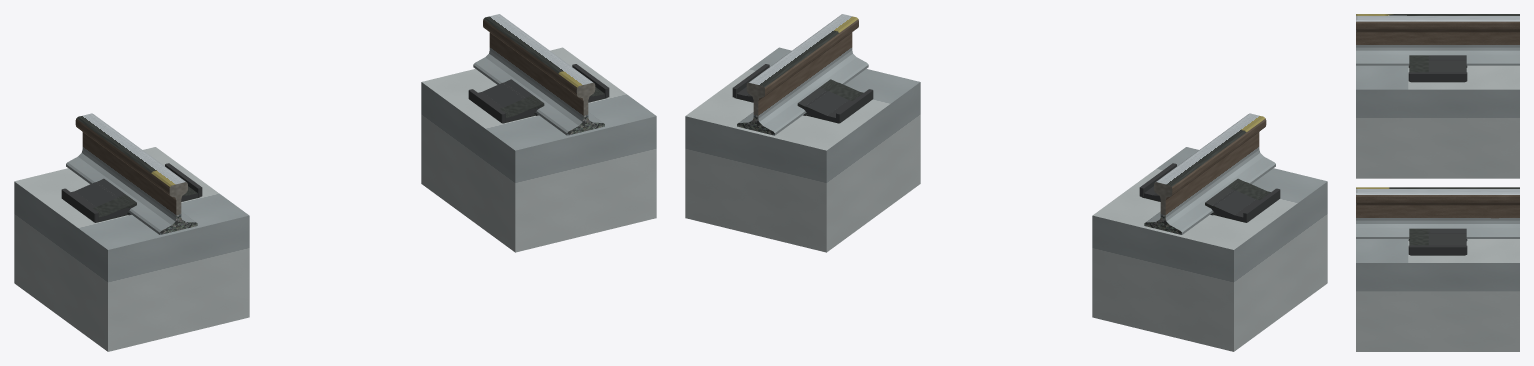
Rendered from direct_low.obj.
3 views of the same model, side by side, from view 1: azimuth 30°, elevation 25°; view 2: azimuth 150°, elevation 25°; view 3: azimuth 270°, elevation 25° (orthographic). The views are drawn at different scales.
Parts seen in each view (by area): view 1: direct_bearer, rail_left, rail_right, fastener_right, fastener_left, rail_left_end, rail_right_end; view 2: direct_bearer, rail_left, rail_right, fastener_right, fastener_left, rail_left_end, rail_right_end; view 3: direct_bearer, rail_left, rail_right, fastener_right, fastener_left.
Part boxes in pixels (x1,y1,x2,y2): direct_bearer: [14, 47, 656, 351]; rail_left: [66, 113, 195, 234]; rail_right: [473, 14, 602, 135]; fastener_right: [468, 64, 609, 123]; fastener_left: [61, 163, 202, 222]; rail_left_end: [160, 182, 197, 234]; rail_right_end: [567, 83, 604, 135]; direct_bearer: [685, 47, 1327, 351]; rail_left: [1146, 113, 1275, 234]; rail_right: [739, 14, 868, 135]; fastener_right: [732, 64, 873, 123]; fastener_left: [1139, 163, 1280, 222]; rail_left_end: [1144, 182, 1181, 234]; rail_right_end: [737, 83, 774, 135]; direct_bearer: [1356, 65, 1519, 351]; rail_left: [1356, 14, 1519, 65]; rail_right: [1356, 187, 1519, 238]; fastener_right: [1408, 228, 1467, 255]; fastener_left: [1408, 55, 1467, 82].
Size of the model in its own units: 2.03 by 0.5324 by 0.6.
